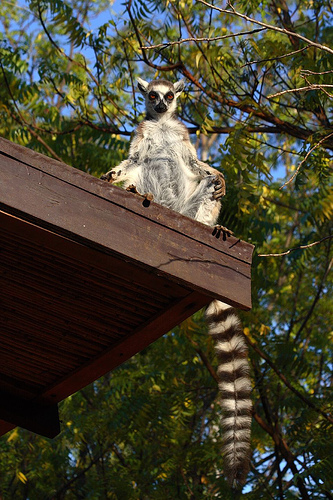cat: (102, 75, 254, 478)
